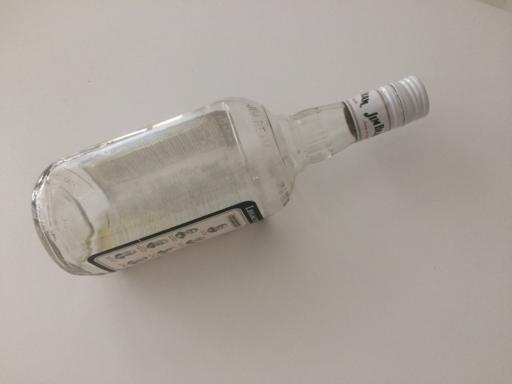botolkaca: (33, 76, 432, 276)
